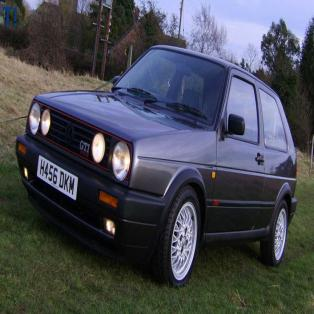Auto: (15, 43, 298, 289)
